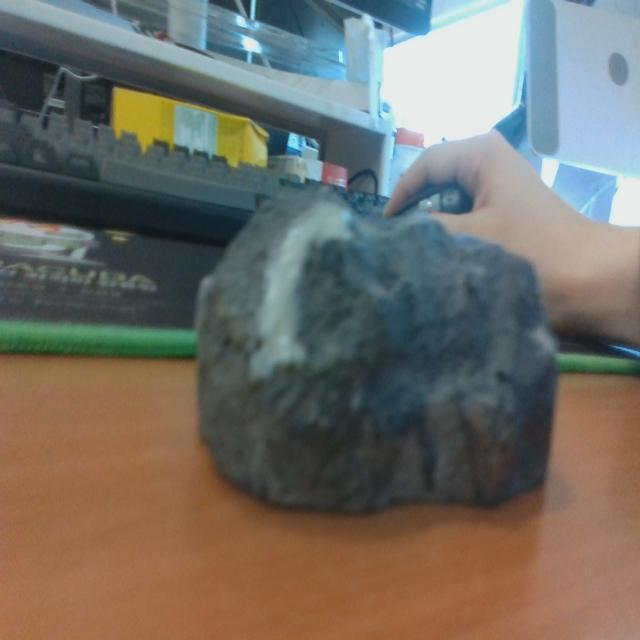stone: (192, 180, 562, 522)
